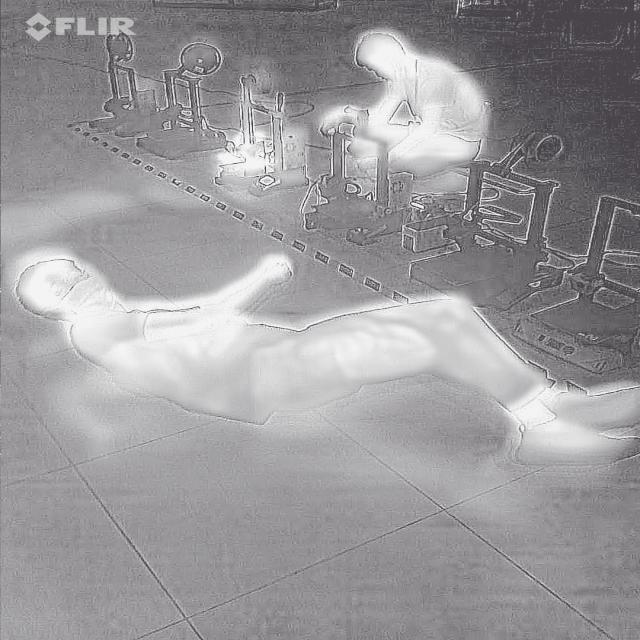Victim: (14, 241, 638, 492), (323, 21, 494, 202)
